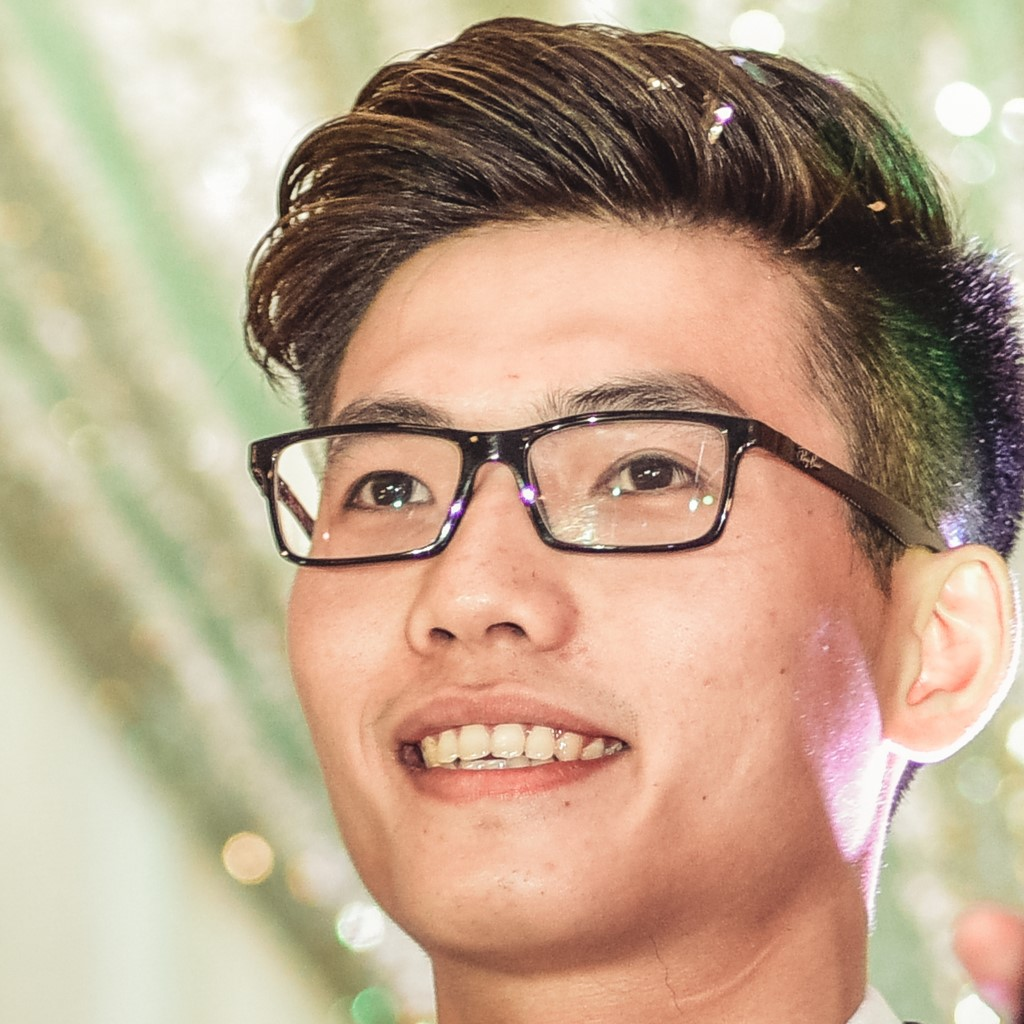sin_mascara: (291, 211, 938, 978)
